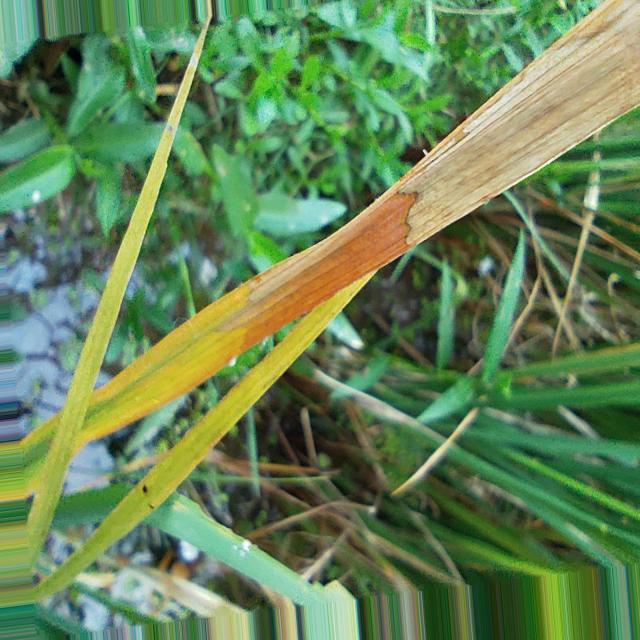Leaf_Blast: (35, 277, 370, 599), (28, 15, 210, 563)
Rice False Smut: (399, 2, 640, 247)
